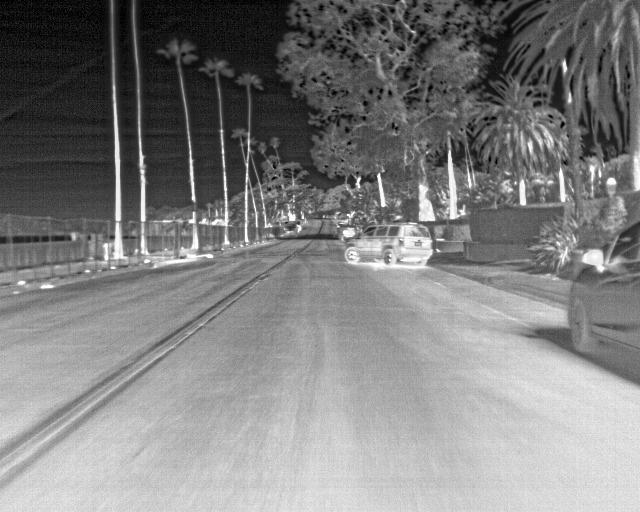car: (569, 225, 639, 381), (342, 222, 434, 268), (283, 222, 301, 238), (338, 222, 357, 237)
